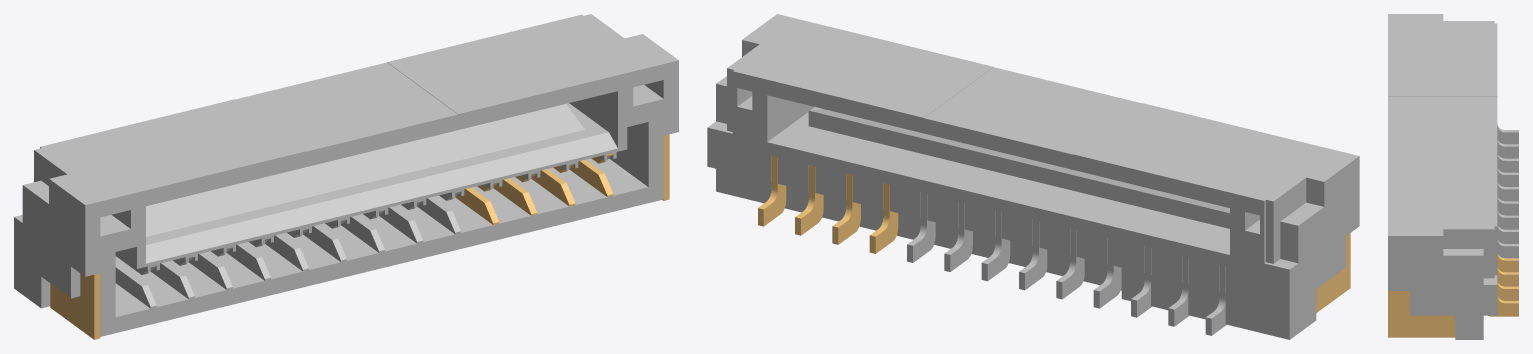
File: SM13B-GHS-TB.obj
The picture shows the model from 3 angles, left to right: view 1: azimuth 30°, elevation 25°; view 2: azimuth 150°, elevation 25°; view 3: azimuth 270°, elevation 25°; orthographic projection. The views are drawn at different scales.
Parts seen in each view (by area): view 1: SM13B-GHS-TB; view 2: SM13B-GHS-TB; view 3: SM13B-GHS-TB.
Part boxes in pixels (bbox=[...]): SM13B-GHS-TB: bbox=[14, 14, 678, 339]; SM13B-GHS-TB: bbox=[707, 14, 1359, 339]; SM13B-GHS-TB: bbox=[1388, 14, 1518, 339].
Size of the model in its own units: 0.0112 by 0.00246 by 0.00278.
